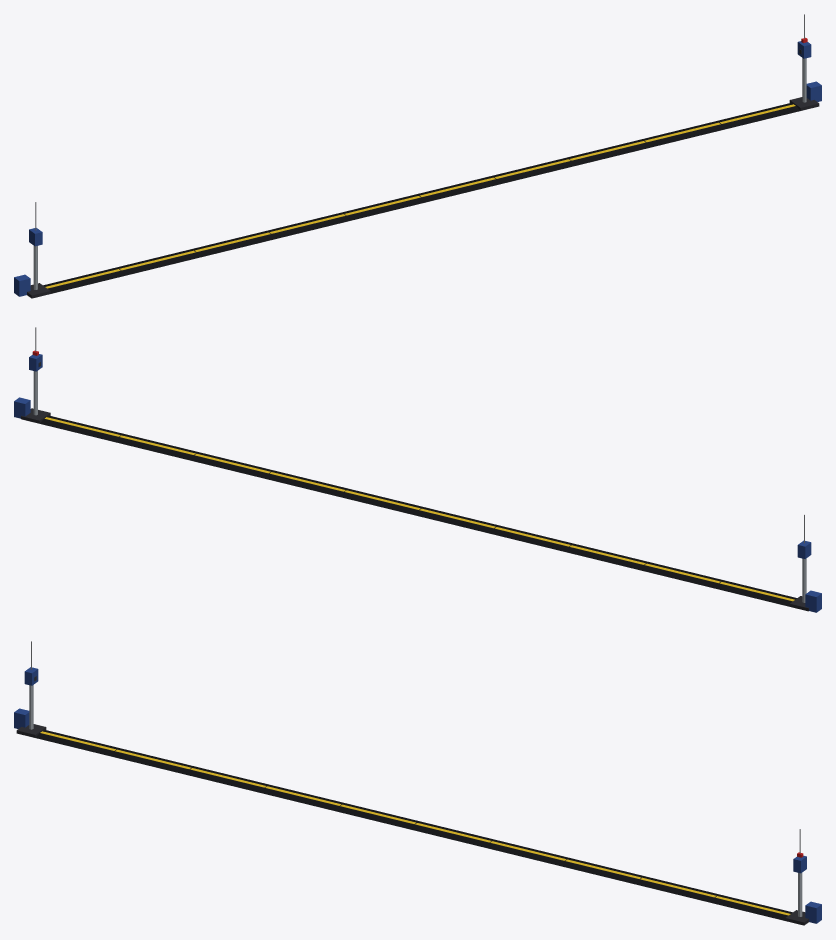
The model's file is timing_beam.glb.
The picture shows the model from 3 angles, top to bottom: view 1: azimuth 30°, elevation 25°; view 2: azimuth 150°, elevation 25°; view 3: azimuth 330°, elevation 25°; orthographic projection.
Visible parts, largest first — view 1: Beam; view 2: Beam; view 3: Beam.
Part boxes in pixels (x1,y1,x2,y2): Beam: [14, 14, 821, 298]; Beam: [14, 327, 821, 612]; Beam: [14, 641, 821, 925].
Bounding box in the file's own units: 21.4 × 2.3 × 0.5.
